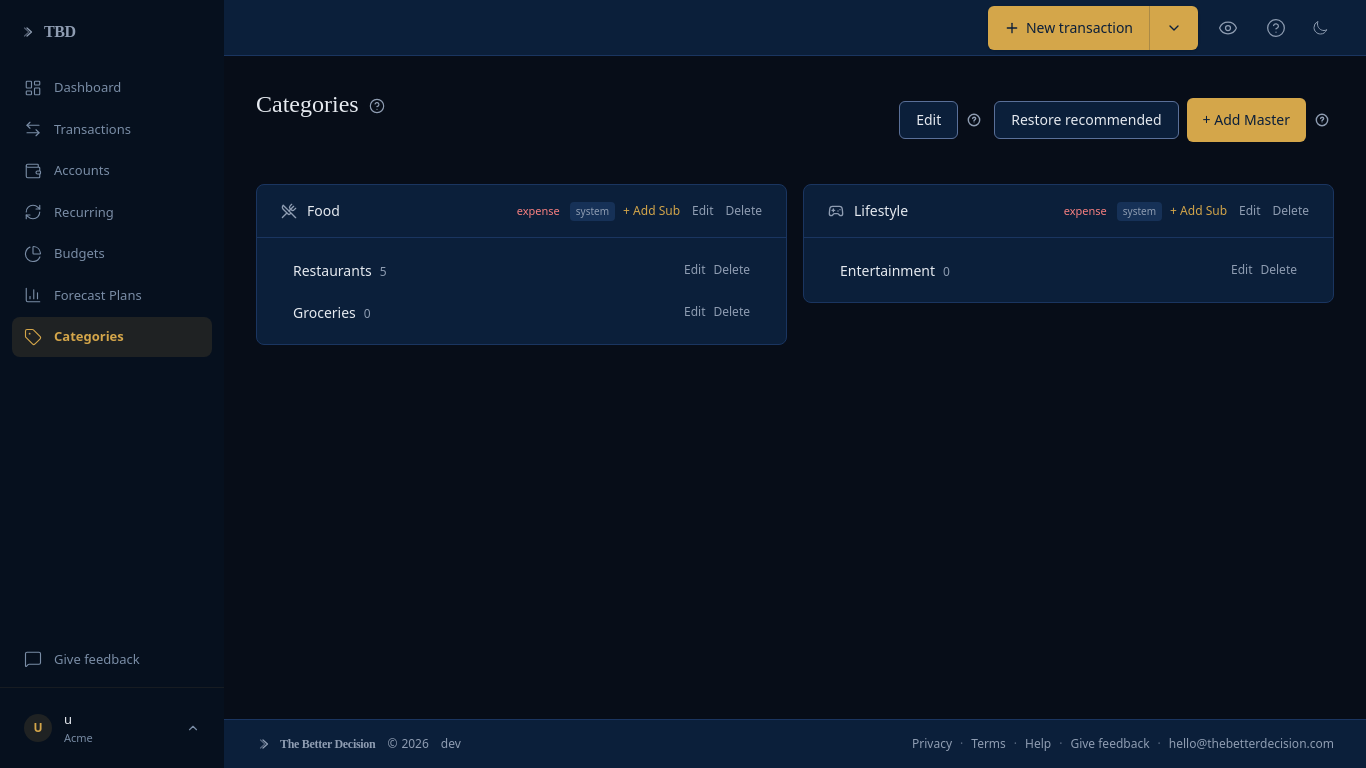
Test case: CategoriesPage - single delete with reassign › a has_children 409 shows the human-readable guard message
Expected: the heading "Food" is shown, [307, 201, 340, 220]
Click the button with aria-label "Delete Food". click: (744,211)
box: [726, 203, 762, 219]
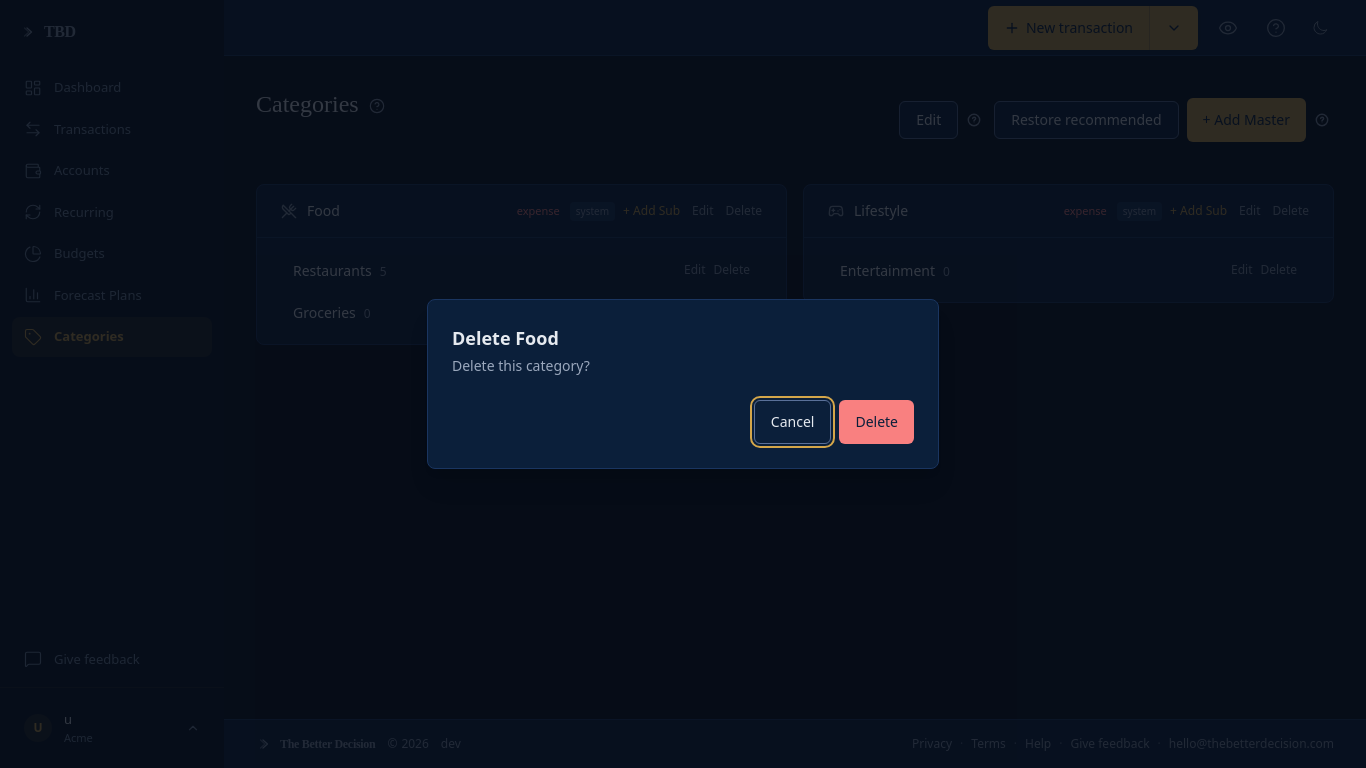
Result: the dialog with test id "single-delete-modal" is shown at [427, 299, 939, 469]
Click the button with test id "single-delete-confirm". click: (877,422)
box: [839, 400, 914, 444]
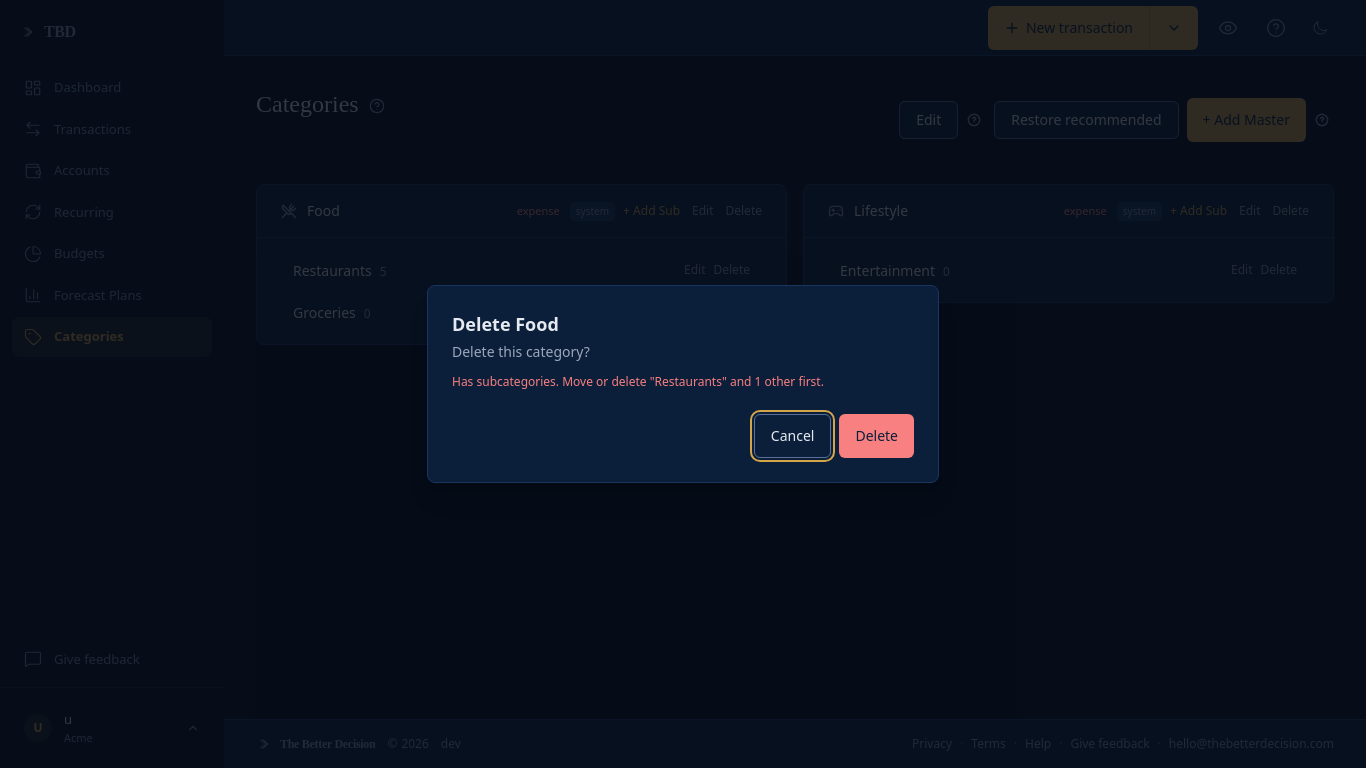
Result: the dialog with test id "single-delete-modal" is shown at [427, 285, 939, 483]
Result: the text with test id "single-delete-failure" shows "Has subcategories" at [452, 373, 824, 390]
Result: the text with test id "single-delete-failure" shows "Restaurants" at [452, 373, 824, 390]
